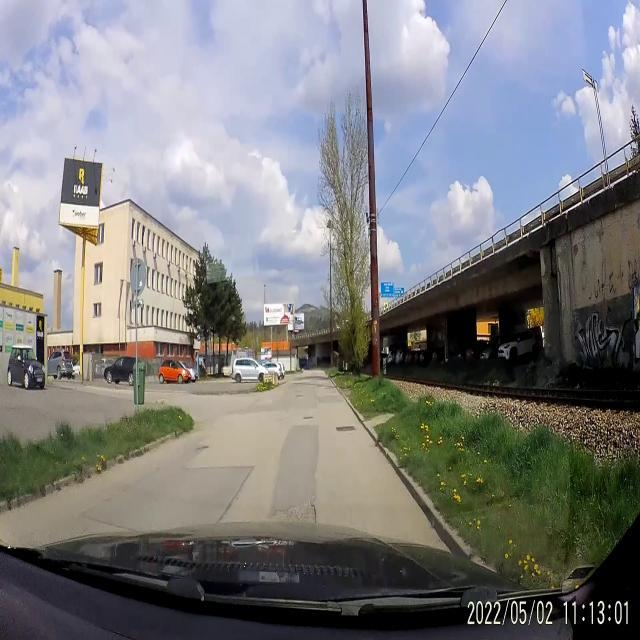Manhole: (332, 418, 361, 440)
Pothole: (267, 494, 324, 524), (196, 436, 216, 462), (300, 409, 314, 428)
